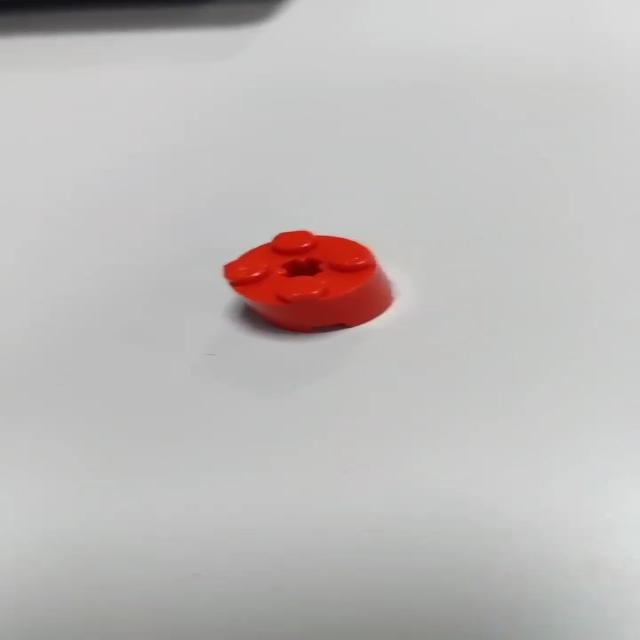S2x2x1: (214, 231, 392, 336)
